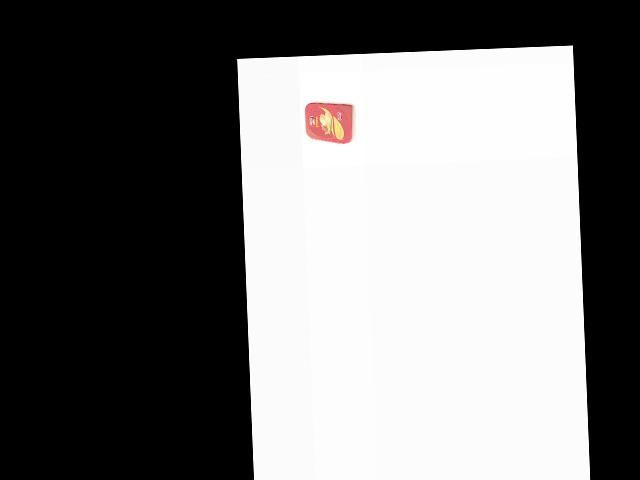cheese: (301, 99, 356, 145)
